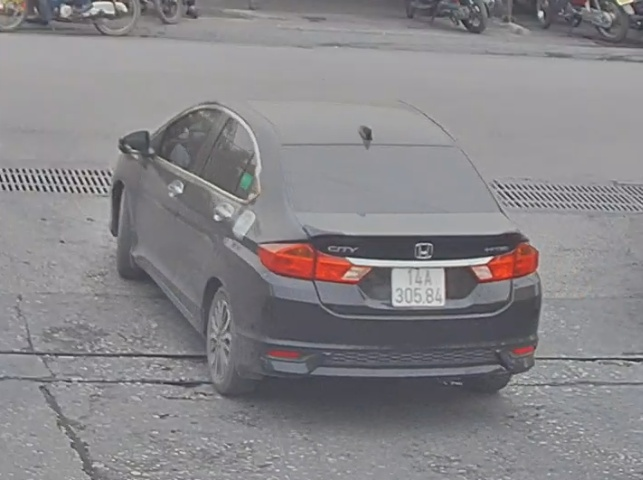vehicle plate: (390, 262, 449, 312)
